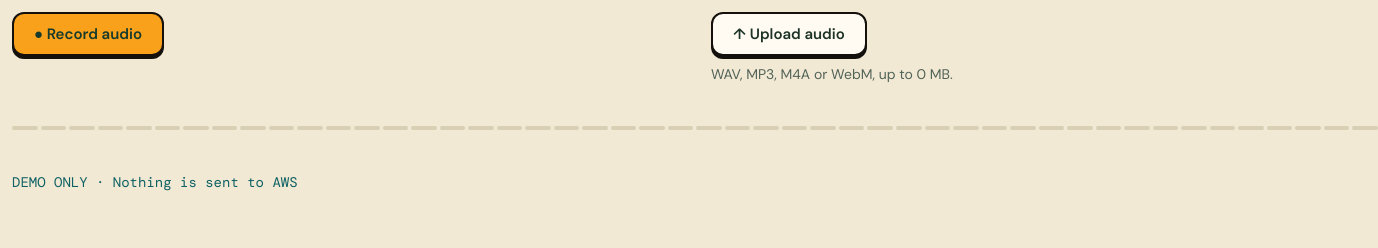
Test: RecorderUploader › reports unsupported microphone APIs instead of throwing
Click the button "● Record audio": click(88, 34) x1=12 y1=12 x2=164 y2=56
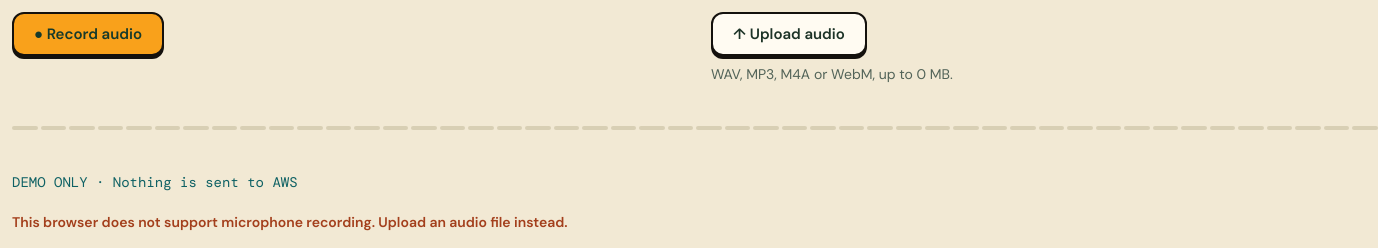
Expected: the message shows "does not support microphone recording", x1=12 y1=213 x2=568 y2=231
